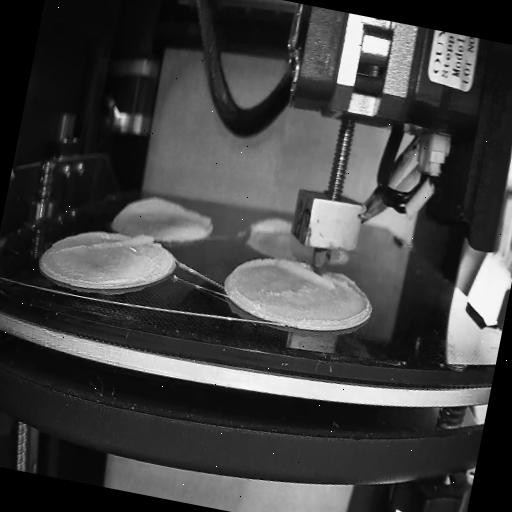over_extrusion: (113, 186, 216, 242), (235, 249, 358, 295), (58, 218, 154, 272), (245, 210, 294, 246)
